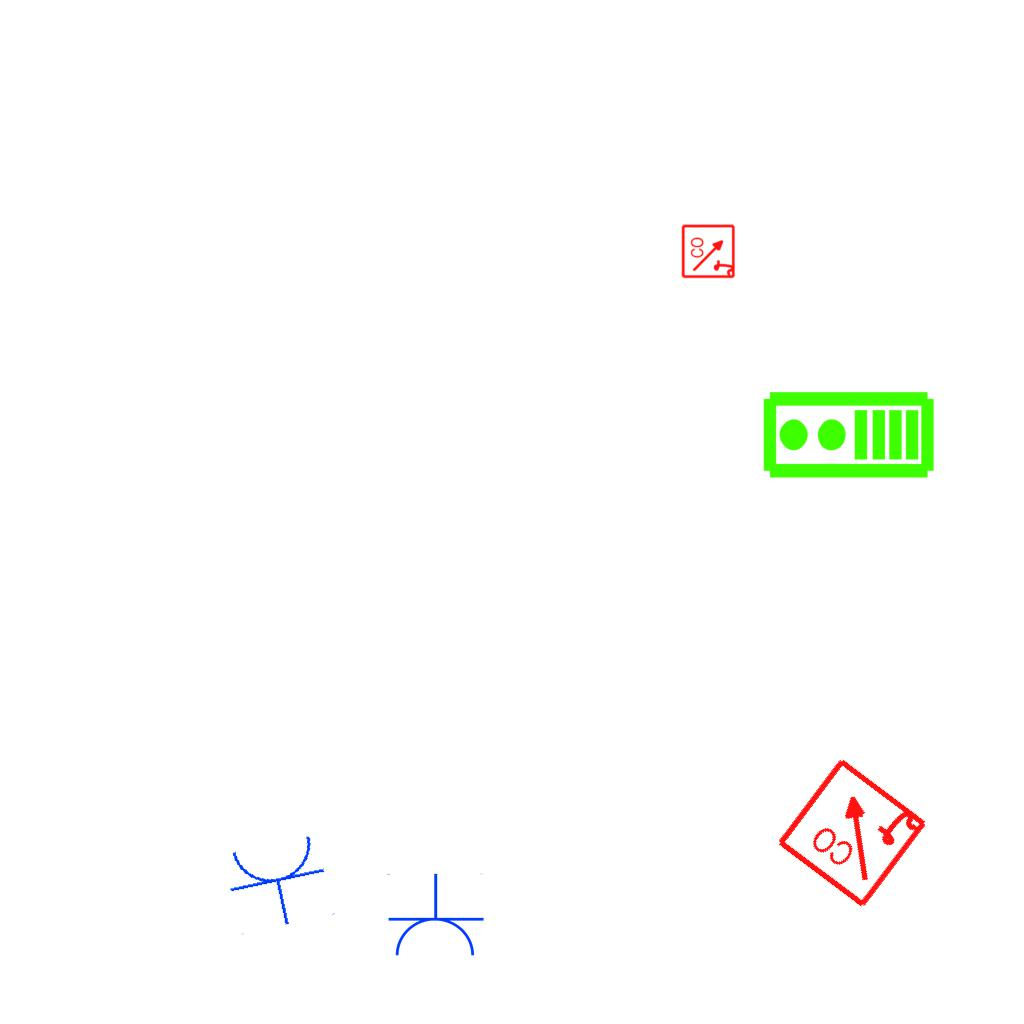Gegensprechanlage_mit_Video: (760, 389, 936, 484)
ROA_Rauchmelder_optisch_mit_Signalgeber_(Sockelsirene): (773, 752, 932, 911), (680, 222, 738, 280)
Schukosteckdose_einfach: (221, 829, 337, 936), (385, 873, 485, 960)
